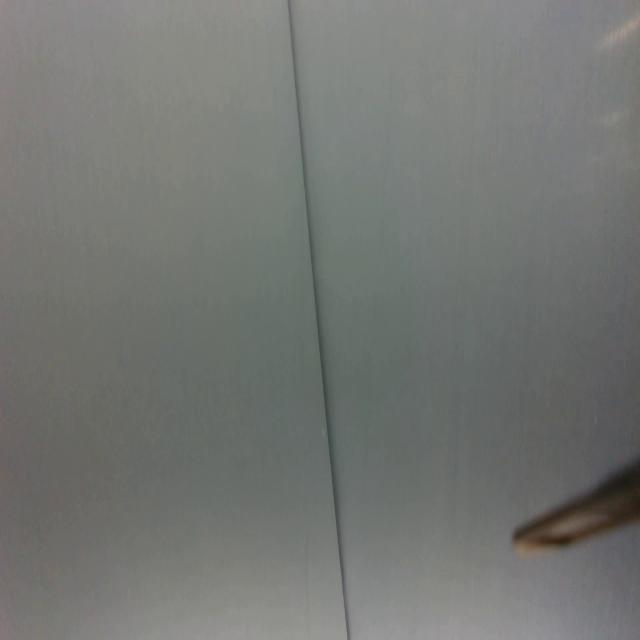crease: (286, 0, 350, 640)
